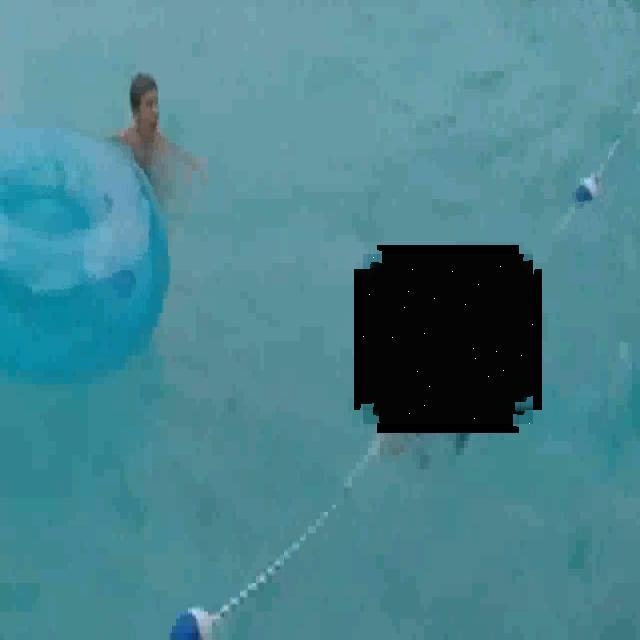Out of Water: (363, 254, 533, 424)
